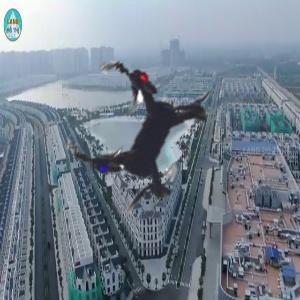drone: (9, 6, 282, 279)
